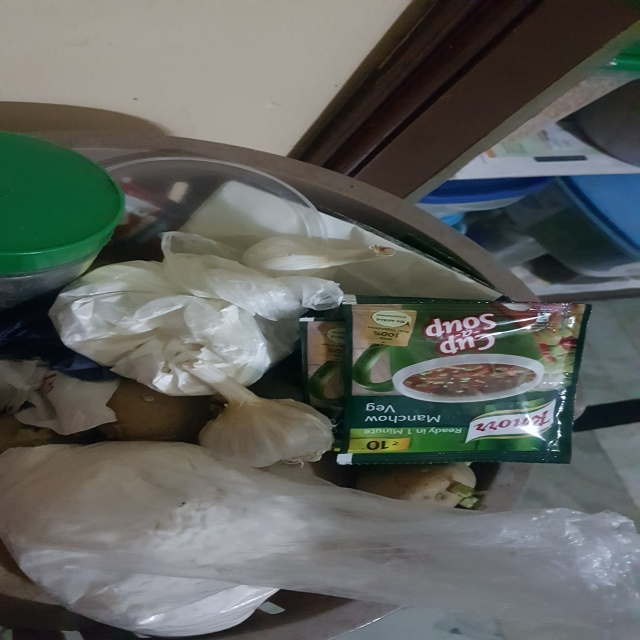garlic: (184, 357, 338, 467)
